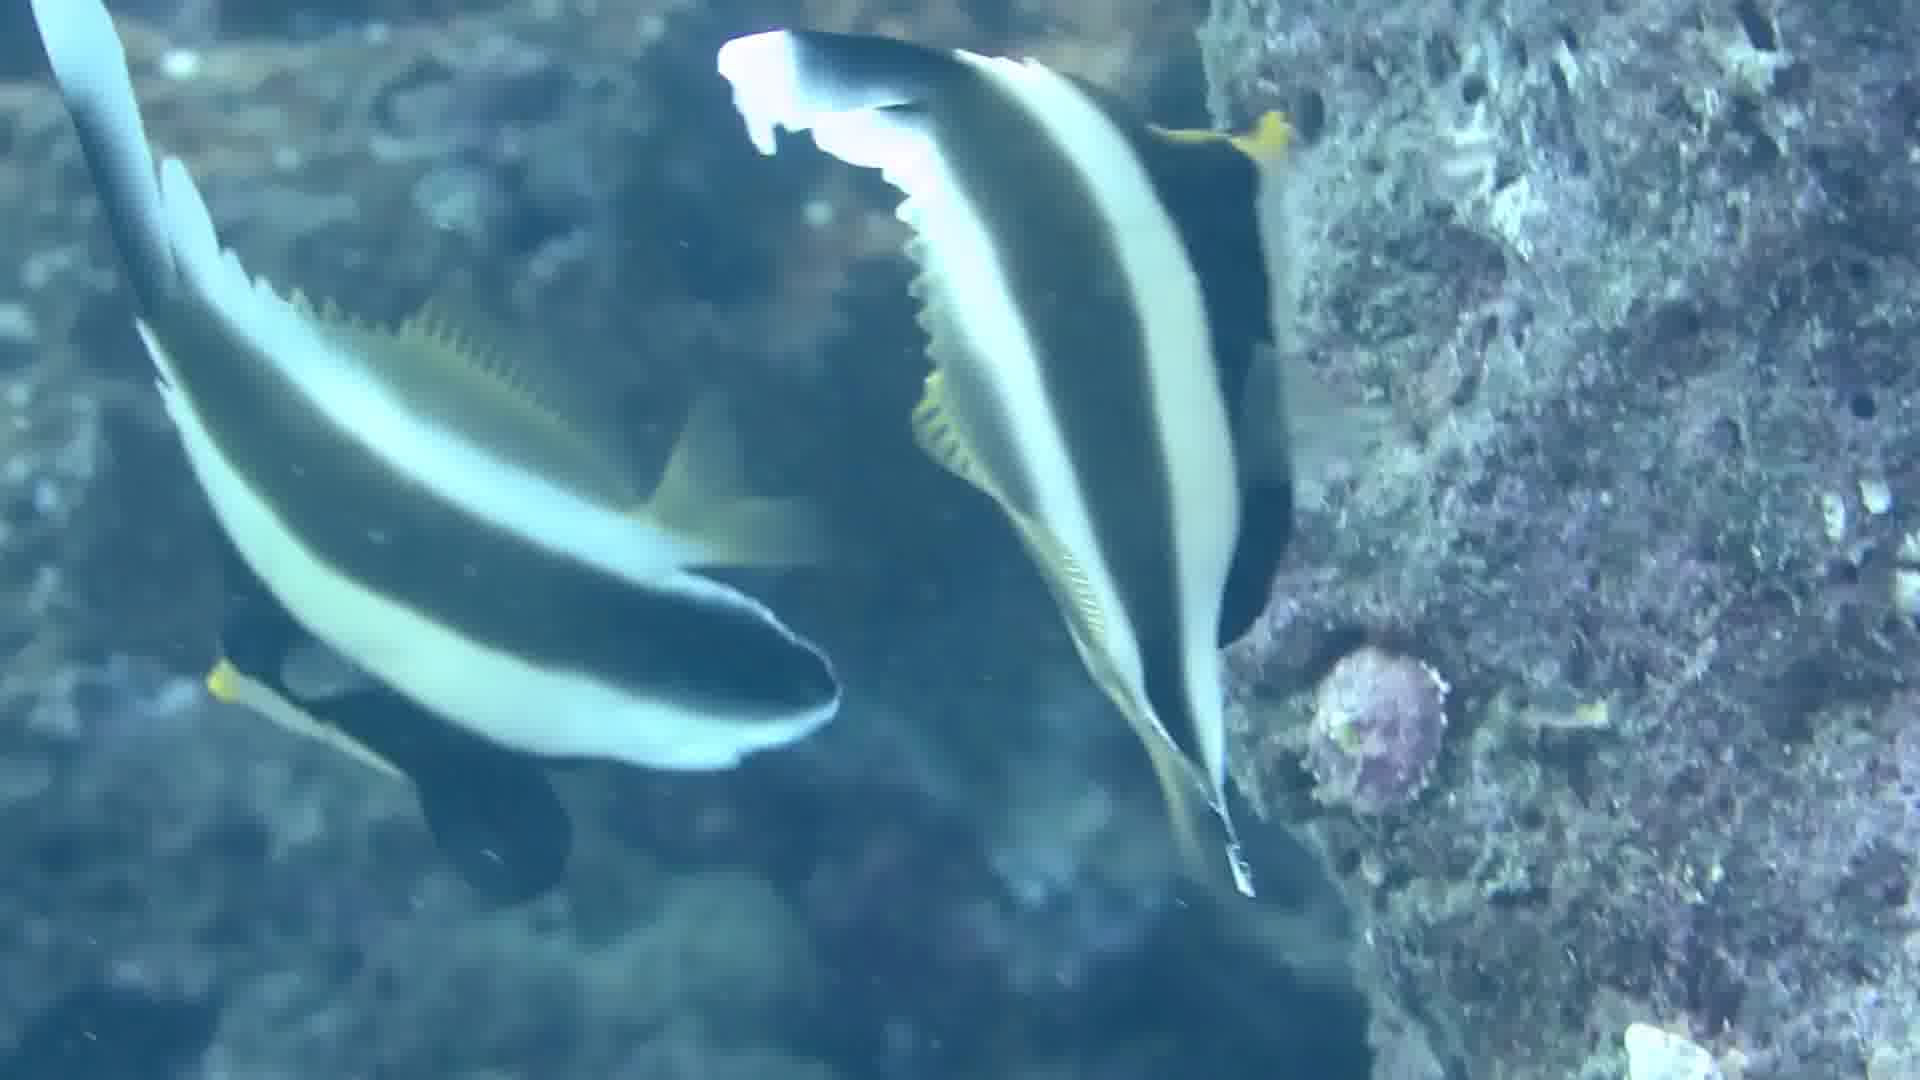Heniochus chrysostomus: (18, 8, 770, 876), (707, 1, 1458, 866)
